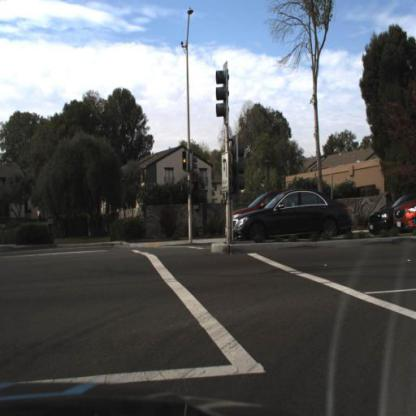car: (224, 183, 355, 256), (364, 197, 393, 241), (390, 198, 416, 238)
trafficLight-Yellow: (178, 146, 189, 175), (181, 151, 187, 176)
